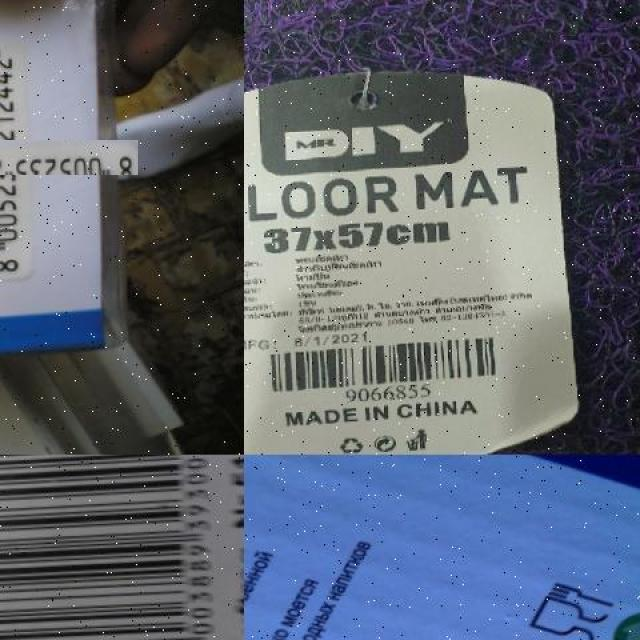Barcode: (1, 455, 235, 640), (255, 328, 513, 401), (0, 89, 87, 227)
